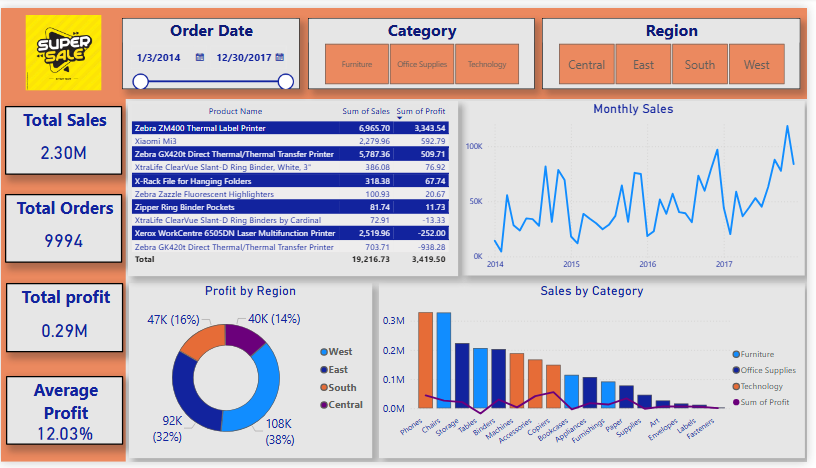

Layout of this report page (visuals, bound fields, positions):
{"tool":"powerbi","page":{"name":"Page 1","canvas":[1280,720],"ordinal":0},"visuals":[{"type":"shape","box":[0,0,1279.8,144.6],"z":0},{"type":"shape","box":[0,133.2,198.4,586.8],"z":1000},{"type":"image","box":[22.7,11.3,154.5,120.5],"z":2000},{"type":"card","title":"Total Sales","fields":{"Values":["Sum(Sample_ Superstore(in).Sales)"]},"box":[5.7,155.9,185.7,109.1],"z":3000},{"type":"card","title":"Total Orders","fields":{"Values":["CountNonNull(Sample_ Superstore(in).Customer ID)"]},"box":[7.1,294.8,185.7,109.1],"z":4000},{"type":"card","title":"Average Profit","fields":{"Values":["Avg(Sample_ Superstore(in).Profit_Margin)"]},"box":[7.1,584.3,185.7,108.6],"z":5000},{"type":"card","title":"Total profit","fields":{"Values":["Sum(Sample_ Superstore(in).Profit)"]},"box":[7.1,437.1,185.7,110],"z":6000},{"type":"slicer","title":"Order Date","fields":{"Values":["Sample_ Superstore(in).Order Date"]},"box":[192.8,15.6,282,113.4],"z":7000},{"type":"slicer","title":"Category","fields":{"Values":["Sample_ Superstore(in).Category"]},"box":[487.6,15.6,360,113.4],"z":8000},{"type":"slicer","title":"Region","fields":{"Values":["Sample_ Superstore(in).Region"]},"box":[858.9,15.6,409.6,113.4],"z":9000},{"type":"donutChart","title":"Profit by Region","fields":{"Category":["Sample_ Superstore(in).Region"],"Y":["Sum(Sample_ Superstore(in).Profit)"]},"box":[202.8,437,385.6,278.2],"z":10000},{"type":"lineStackedColumnComboChart","title":"Sales by Category","fields":{"Y":["Sum(Sample_ Superstore(in).Sales)"],"Category":["Sample_ Superstore(in).Sub-Category"],"Series":["Sample_ Superstore(in).Category"],"Y2":["Sum(Sample_ Superstore(in).Profit)"]},"box":[600,437,675.9,278.2],"z":11000},{"type":"lineChart","title":"Monthly Sales","fields":{"Y":["Sum(Sample_ Superstore(in).Sales)"],"Category":["Sample_ Superstore(in).Order Date.Variation.Date Hierarchy.Year","Sample_ Superstore(in).Order Date.Variation.Date Hierarchy.Month"]},"box":[731.5,147.2,544.4,276.9],"z":12000},{"type":"tableEx","title":"Monthly Sales","fields":{"Values":["Sample_ Superstore(in).Product Name","Sum(Sample_ Superstore(in).Sales)","Sum(Sample_ Superstore(in).Profit)"]},"box":[202.2,146.9,523.7,277.7],"z":12001}]}

Visuals, with their boxes in screenshot pixels (x1, y1, x2, y2), scaled from the page's 1280x720 canvas onto the 816x468 screenshot:
shape: <region>0, 0, 815, 94</region>
shape: <region>0, 87, 126, 467</region>
image: <region>14, 7, 113, 86</region>
"Total Sales" card: <region>4, 101, 122, 172</region>
"Total Orders" card: <region>5, 192, 123, 263</region>
"Average Profit" card: <region>5, 380, 123, 450</region>
"Total profit" card: <region>5, 284, 123, 356</region>
"Order Date" slicer: <region>123, 10, 303, 84</region>
"Category" slicer: <region>311, 10, 540, 84</region>
"Region" slicer: <region>548, 10, 809, 84</region>
"Profit by Region" donutChart: <region>129, 284, 375, 465</region>
"Sales by Category" lineStackedColumnComboChart: <region>382, 284, 813, 465</region>
"Monthly Sales" lineChart: <region>466, 96, 813, 276</region>
"Monthly Sales" tableEx: <region>129, 95, 463, 276</region>
